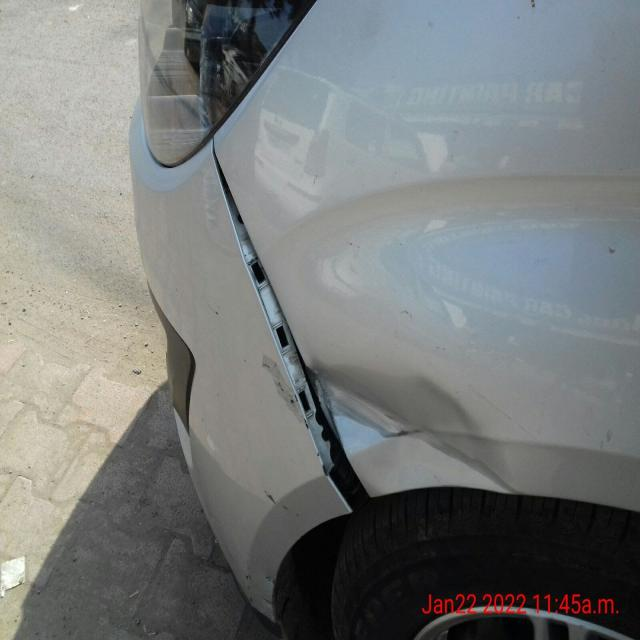damage: (309, 348, 538, 509), (238, 335, 303, 612)
